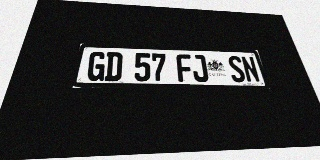5: (134, 53, 151, 81)
7: (151, 53, 167, 82)
D: (104, 52, 123, 81)
F: (176, 54, 194, 82)
G: (86, 51, 106, 81)
J: (191, 54, 209, 82)
N: (240, 56, 261, 83)
S: (227, 56, 247, 82)
